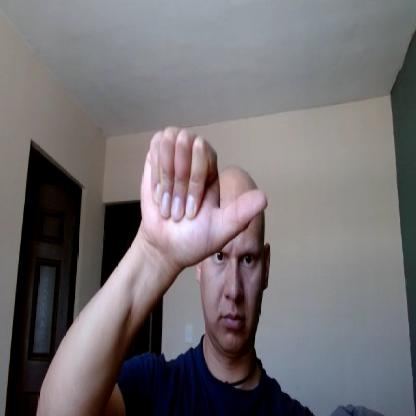A: (140, 125, 269, 266)
